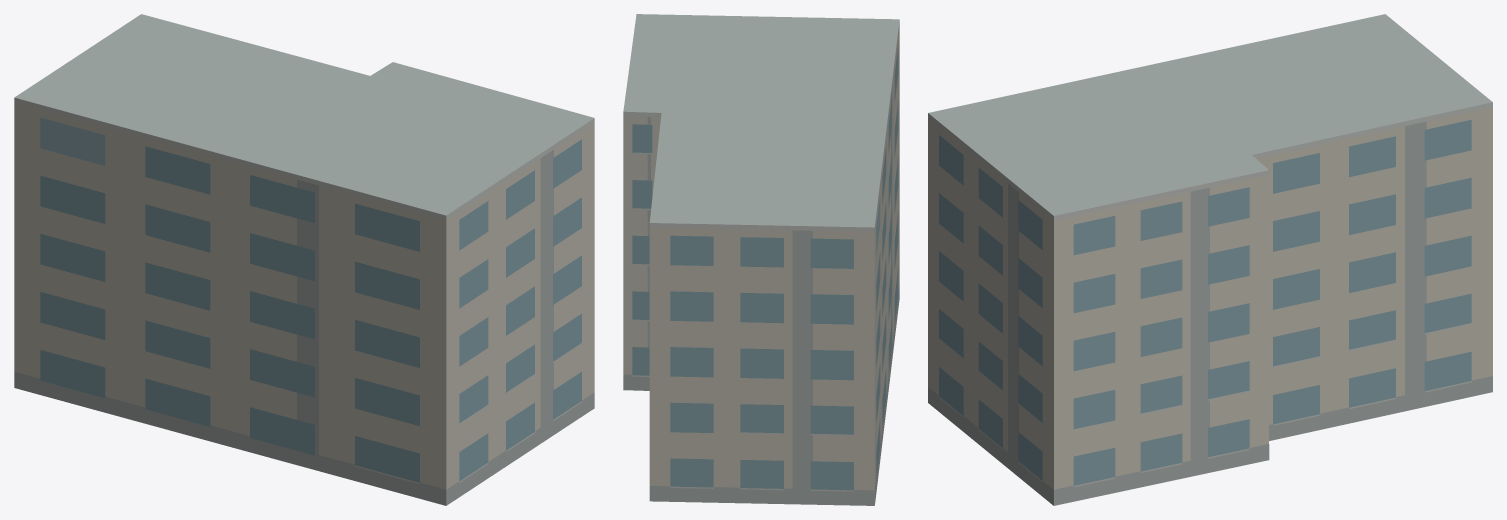
Rendered from survey-upis-32827567.glb.
The picture shows the model from 3 angles, left to right: view 1: azimuth 30°, elevation 25°; view 2: azimuth 150°, elevation 25°; view 3: azimuth 270°, elevation 25°; orthographic projection. The views are drawn at different scales.
Parts seen in each view (by area): view 1: survey-upis-32827567.tmp; view 2: survey-upis-32827567.tmp; view 3: survey-upis-32827567.tmp.
Part boxes in pixels (box(x1,y1,x2,y2)): survey-upis-32827567.tmp: box(14, 14, 594, 505); survey-upis-32827567.tmp: box(623, 14, 899, 505); survey-upis-32827567.tmp: box(928, 14, 1492, 505).
Size of the model in its own units: 22.06 by 14.76 by 26.07.
